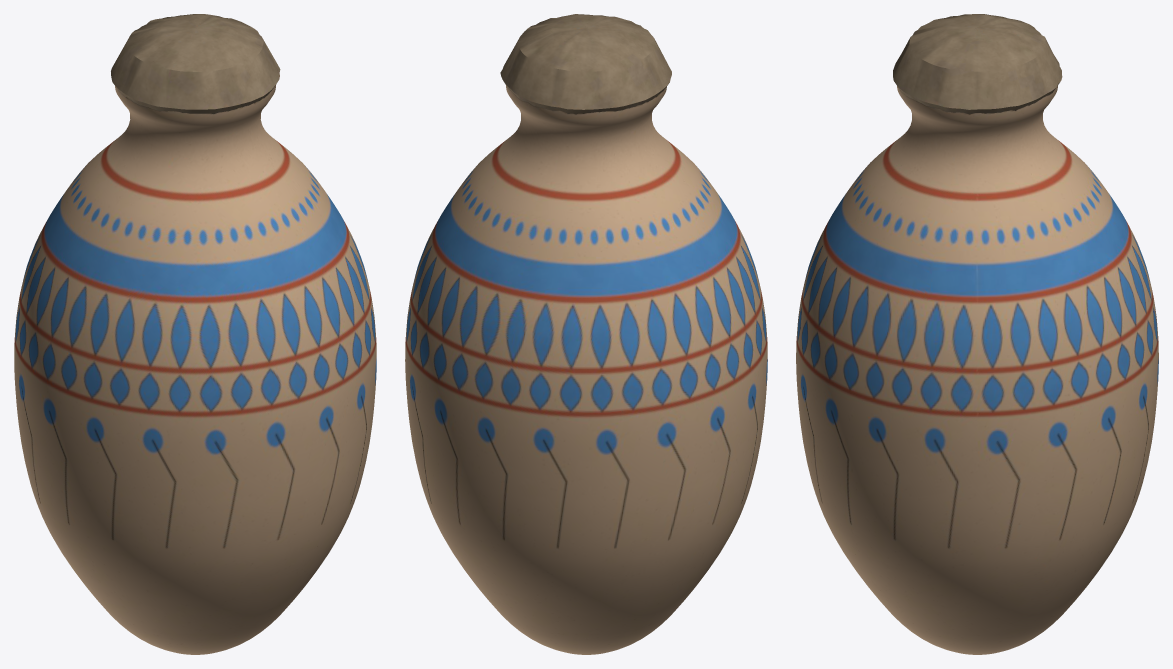
The model's file is blue_painted_jar.glb.
The picture shows the model from 3 angles, left to right: view 1: azimuth 30°, elevation 25°; view 2: azimuth 150°, elevation 25°; view 3: azimuth 270°, elevation 25°; orthographic projection.
Parts seen in each view (by area): view 1: blue_painted_jar; view 2: blue_painted_jar; view 3: blue_painted_jar.
Boxes of the visible parts, x1=… form: blue_painted_jar: x1=14, y1=14, x2=376, y2=654; blue_painted_jar: x1=405, y1=14, x2=767, y2=654; blue_painted_jar: x1=796, y1=14, x2=1158, y2=654.
Size of the model in its own units: 0.3207 by 0.6013 by 0.3207.
1 material, 1 textured.
